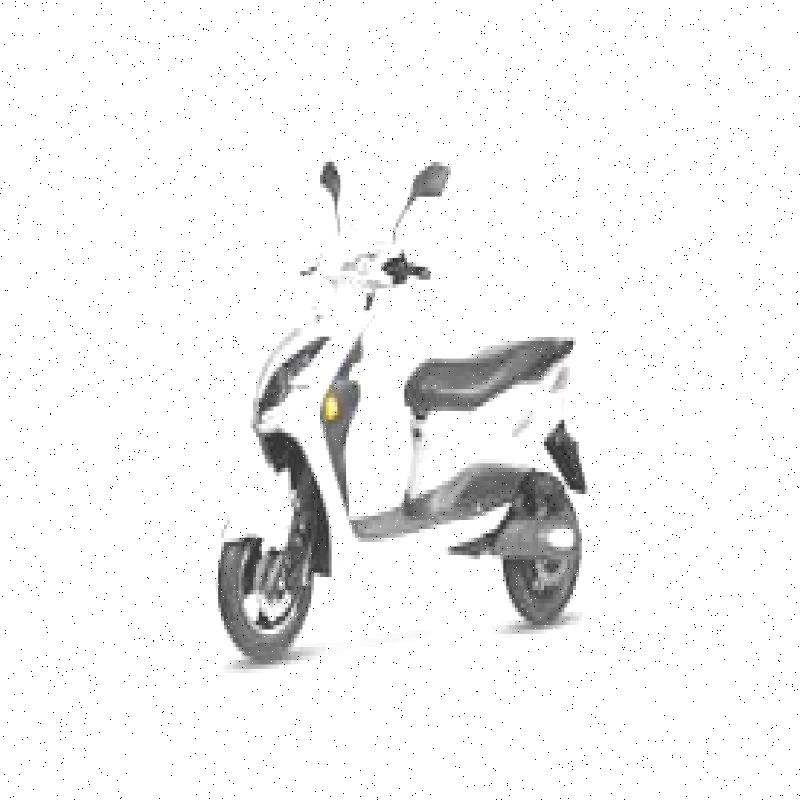bike: (203, 107, 589, 698)
